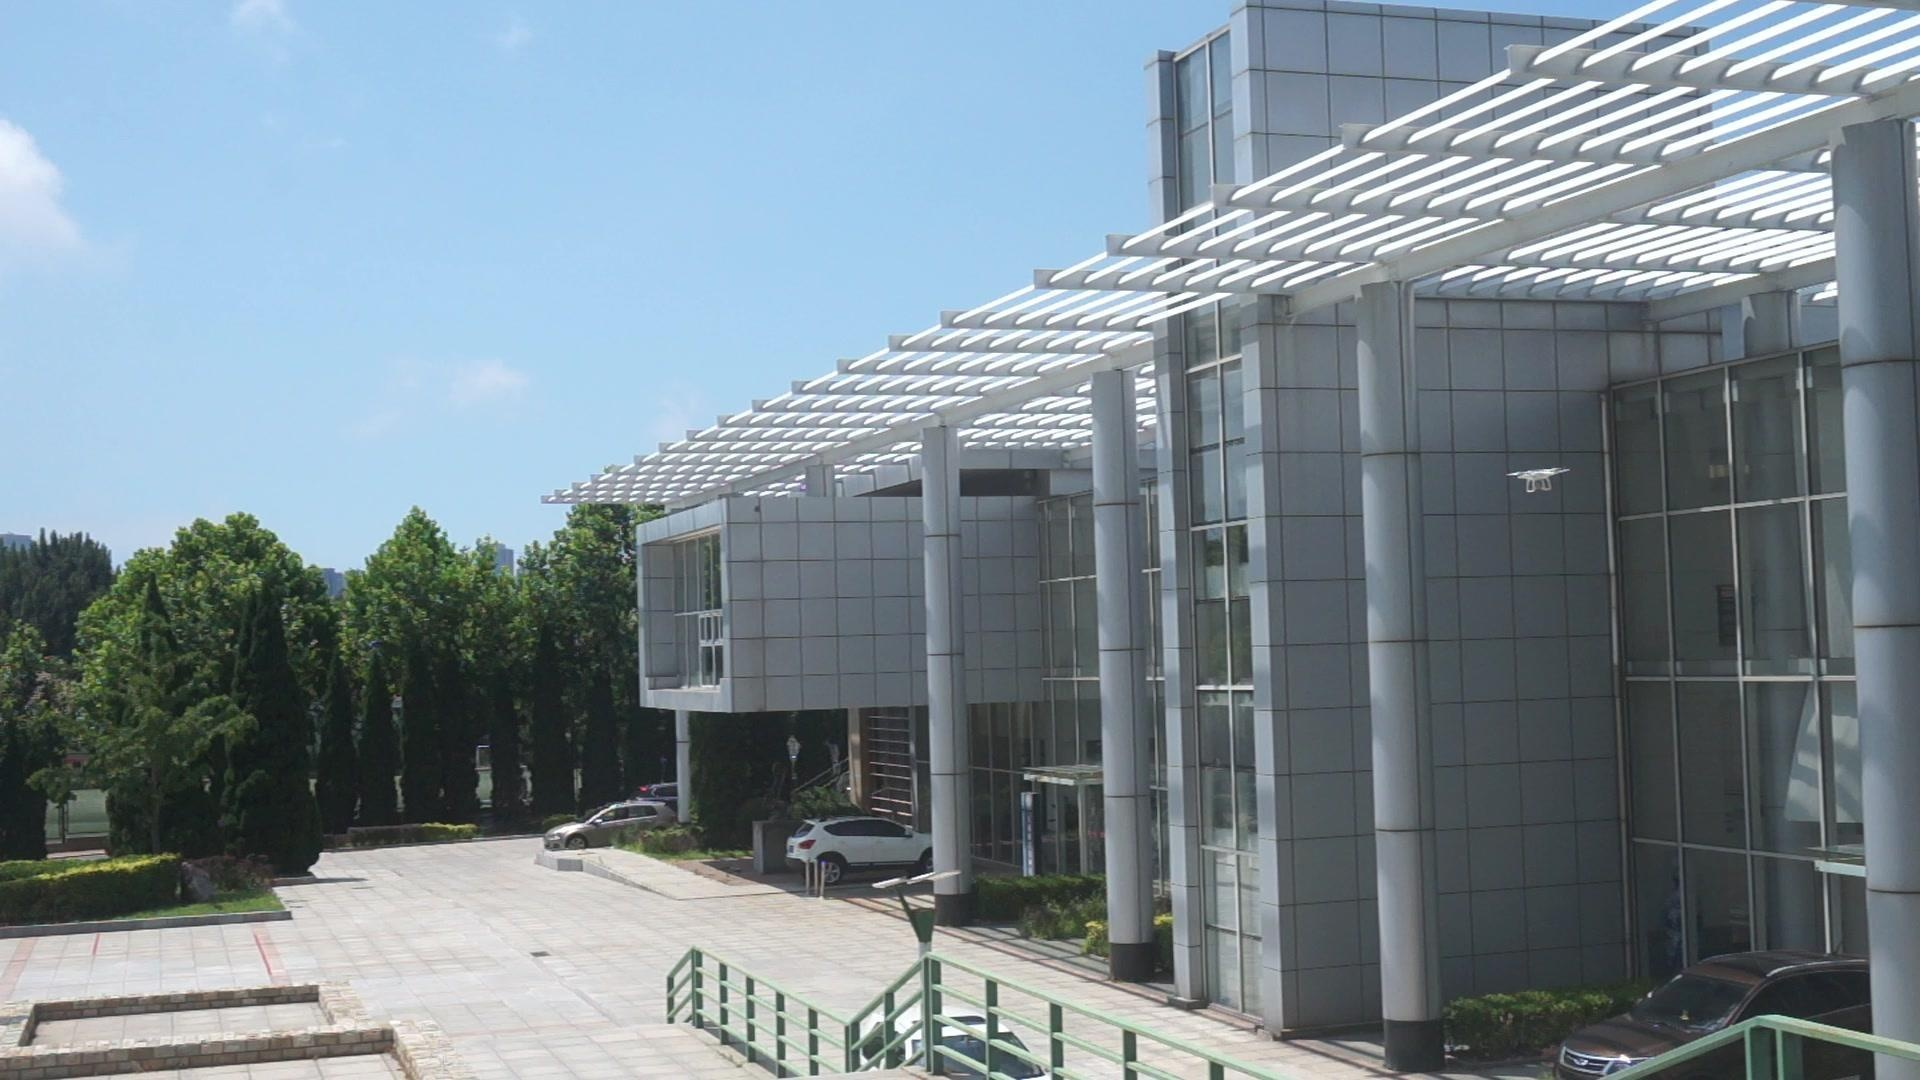UAV: (1506, 468, 1572, 495)
